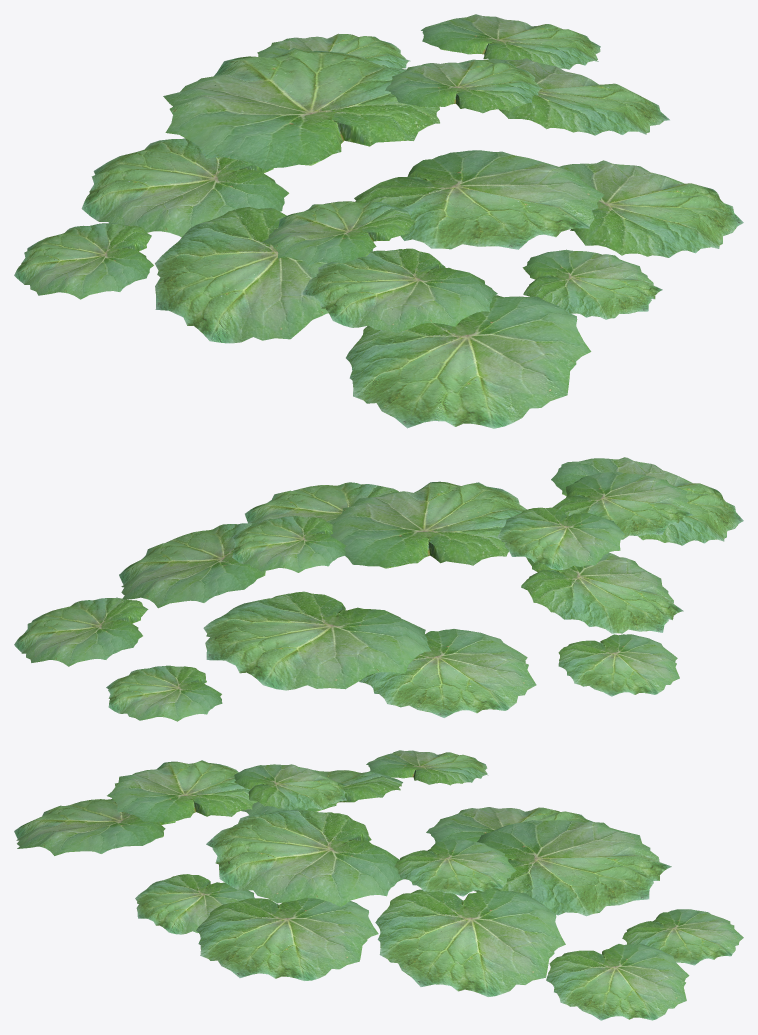
File: Leopard3.fbx
3 renders of one model, top to bottom at view 1: azimuth 30°, elevation 25°; view 2: azimuth 150°, elevation 25°; view 3: azimuth 270°, elevation 25°, orthographic. The views are drawn at different scales.
Visible parts, largest first — view 1: Leopard3; view 2: Leopard3; view 3: Leopard3.
Part boxes in pixels (left/top/right/bottom): Leopard3: left=14, top=14, right=743, bottom=428; Leopard3: left=14, top=457, right=743, bottom=721; Leopard3: left=14, top=750, right=743, bottom=1020.
Bounding box in the file's own units: 119 × 17.15 × 139.
